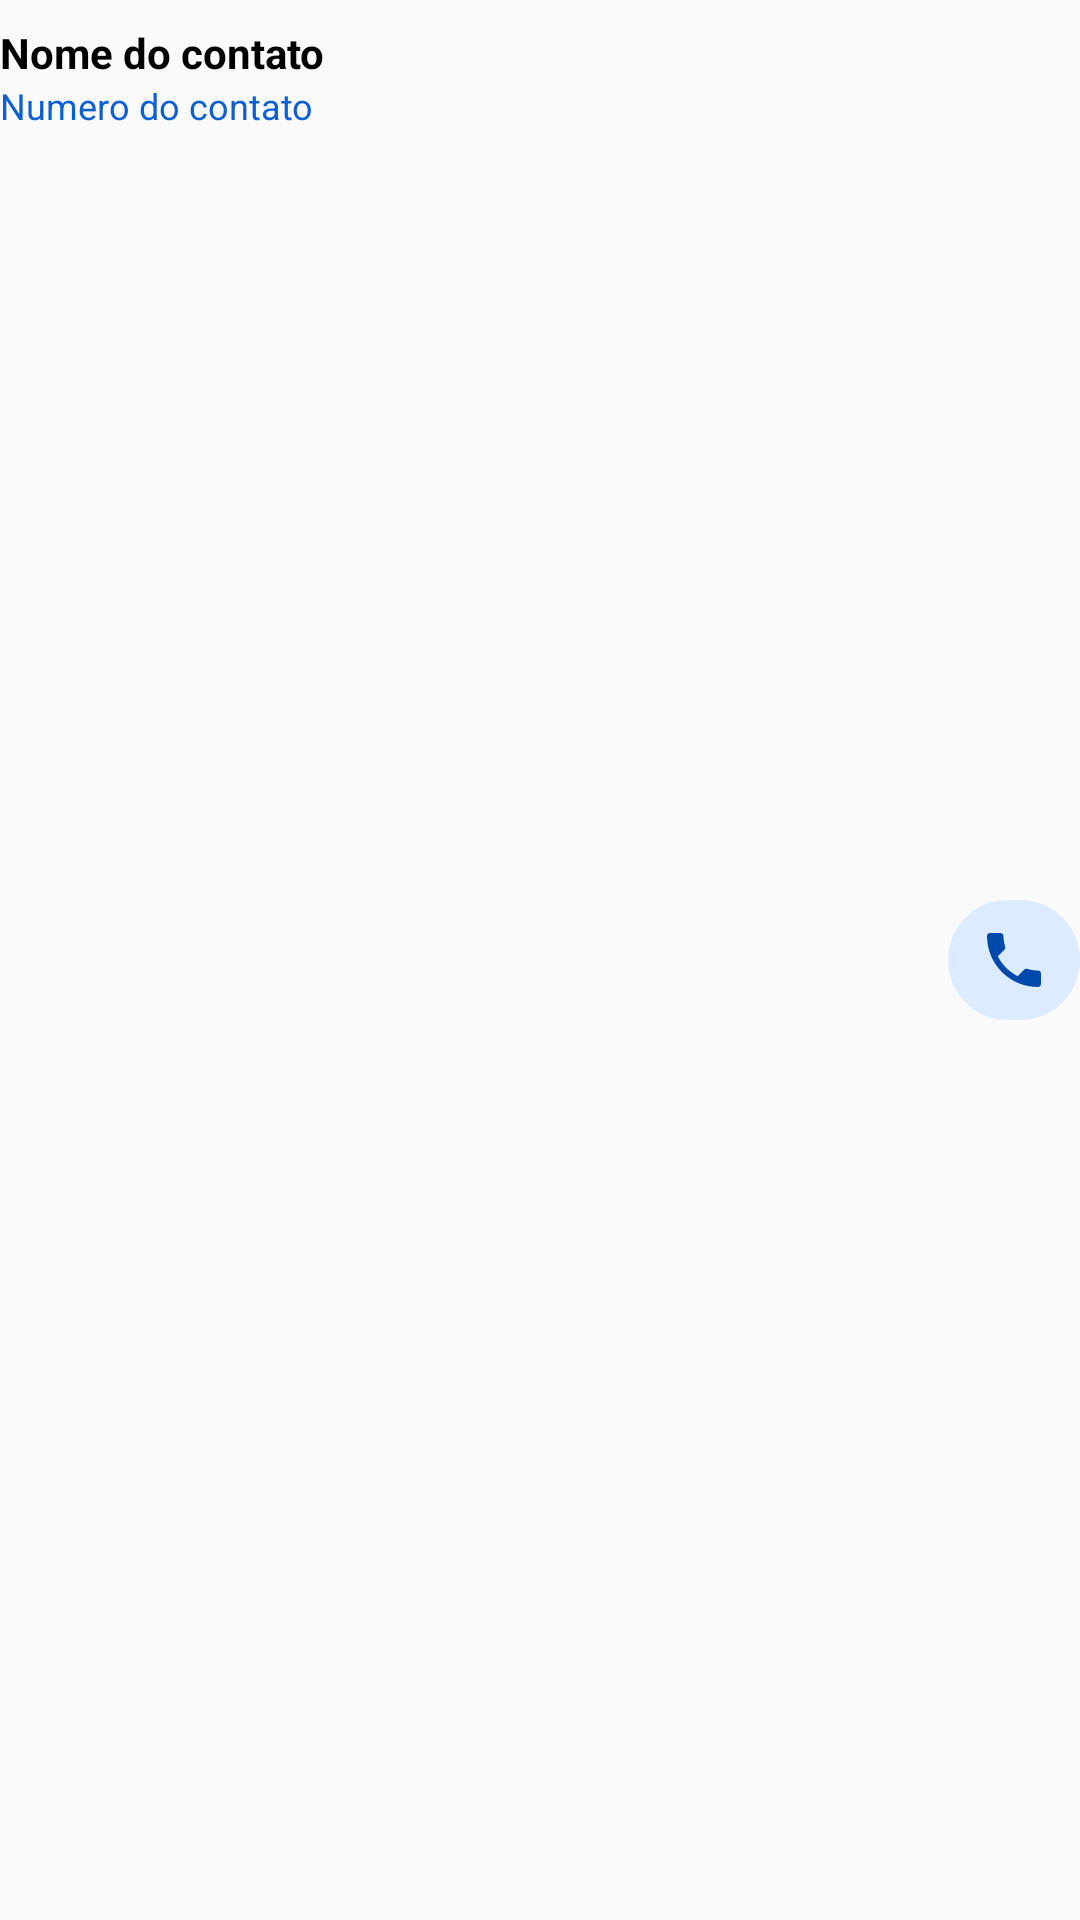

Named icons in this screenshot (1080px×1920px) and their centers, (x,y):
phone: (1014,960)
